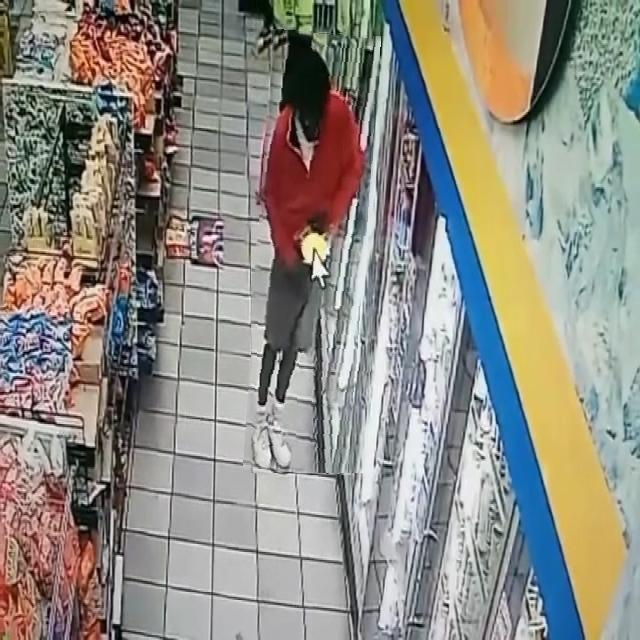Shoplifting: (251, 31, 373, 473)
